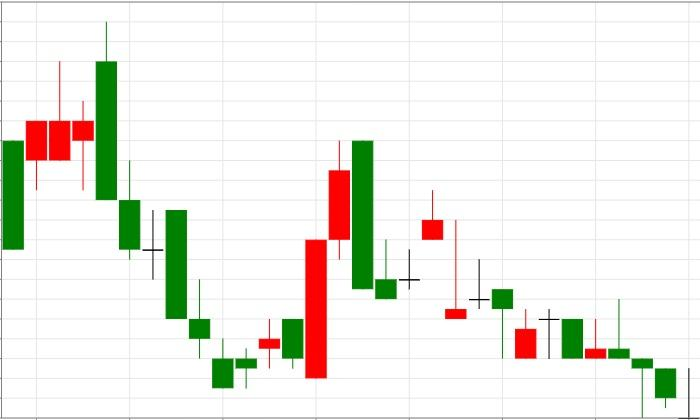bearish_engulfing_fall: (212, 139, 373, 388)
